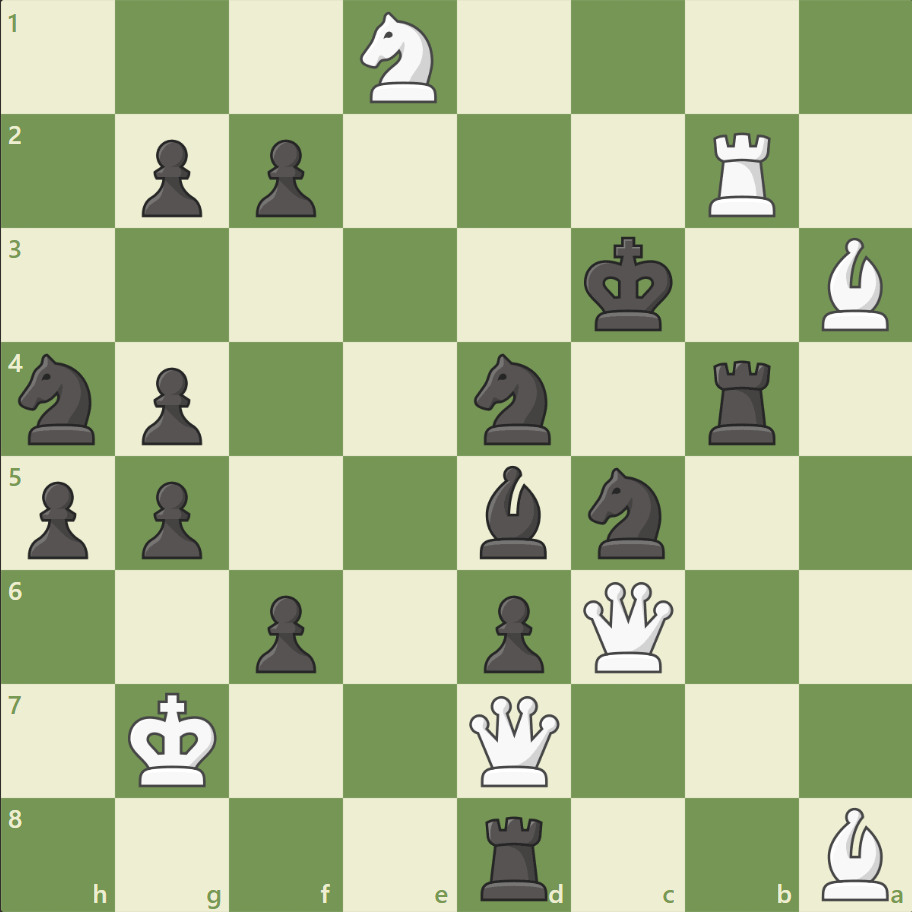B: (812, 801, 896, 904), (812, 233, 896, 336)
K: (124, 685, 224, 793)
N: (351, 7, 449, 110)
Q: (578, 576, 677, 676), (464, 690, 563, 789)
R: (700, 125, 783, 222)
b: (471, 460, 555, 563)
k: (579, 231, 679, 339)
n: (579, 461, 676, 564), (465, 348, 562, 450), (11, 348, 108, 450)
p: (474, 586, 549, 677), (247, 586, 322, 677), (133, 473, 208, 564), (20, 473, 95, 564), (133, 359, 208, 450), (247, 132, 322, 223), (133, 132, 208, 223)
r: (473, 806, 556, 904), (700, 352, 783, 449)
